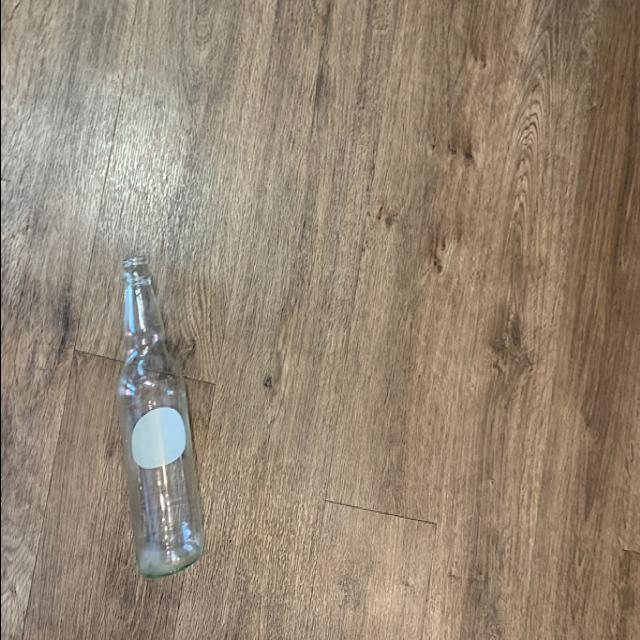litter: (114, 256, 206, 582)
